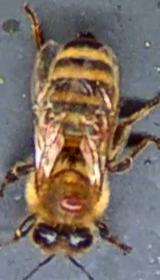varroa_mite: (51, 187, 88, 218)
